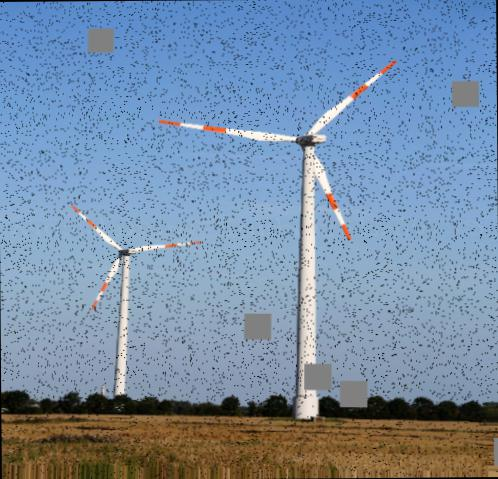wind turbine: (159, 57, 399, 400), (70, 201, 204, 393)
